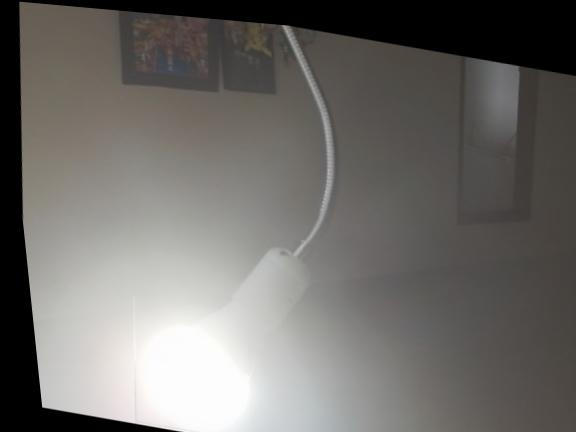TubeLight: (114, 293, 249, 432)
